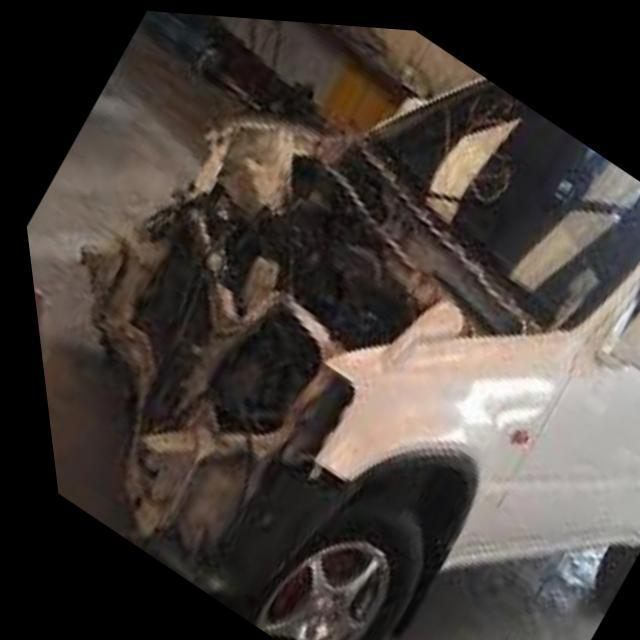no part: (76, 118, 481, 603)
